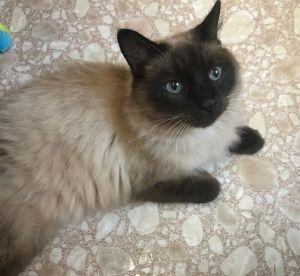siamese: (114, 1, 252, 141)
